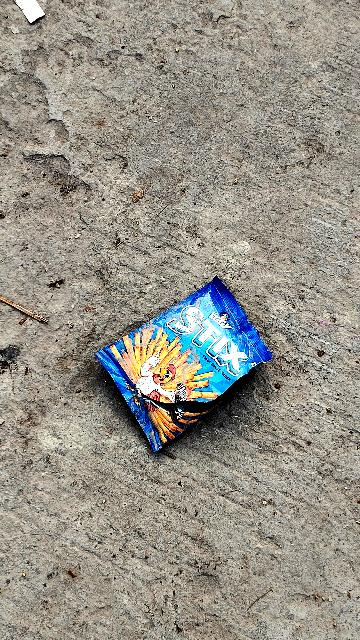packet: (89, 278, 274, 453)
